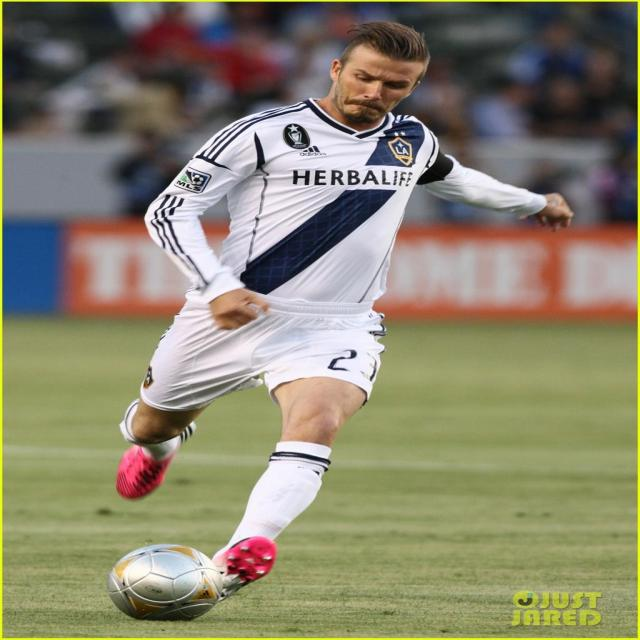Face: (314, 26, 439, 132)
